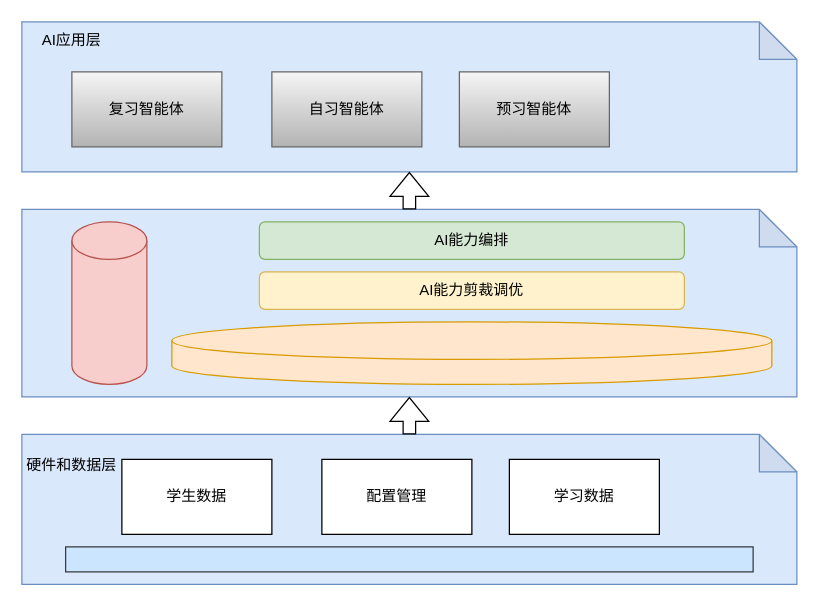
This 819x606 diagram has some shape labels left out. The centre of each missing label's shape, as x and y in pixels:
"AI能力导入适配" goes at point (471, 352).
"AI能力评估" goes at point (109, 302).
"算力" goes at point (408, 559).
